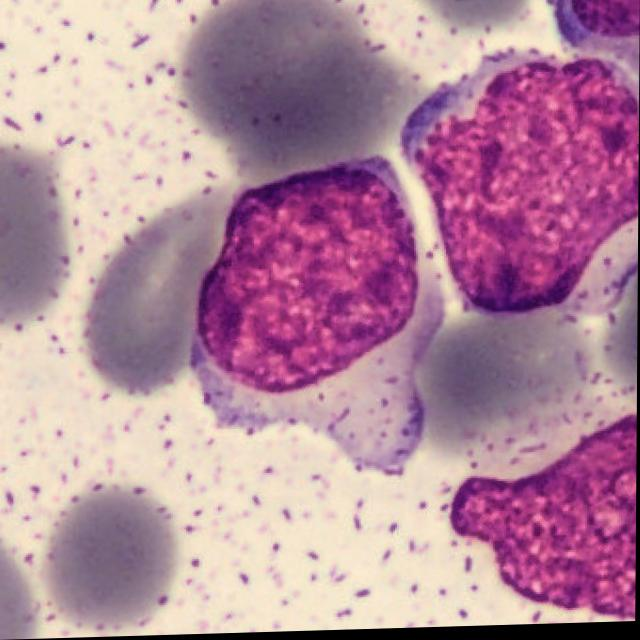Mieloblasto: (194, 158, 443, 468), (402, 49, 639, 324), (451, 419, 637, 625)
